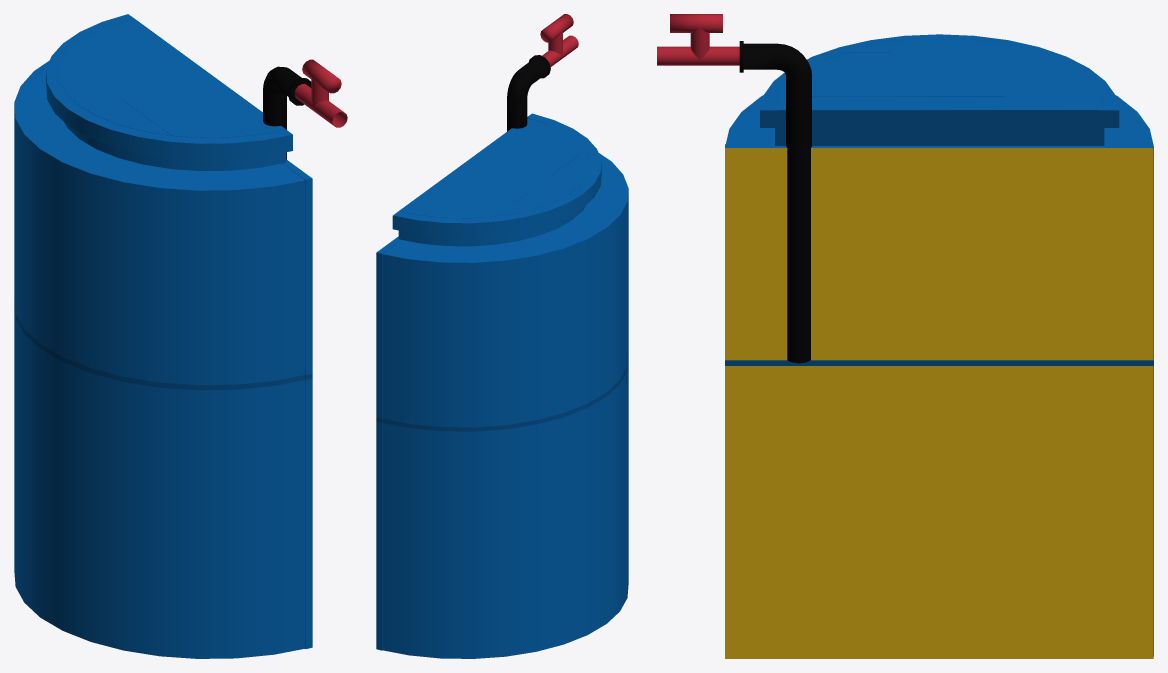
File: Pipa Gas.fbx
3 renders of one model, left to right at view 1: azimuth 30°, elevation 25°; view 2: azimuth 150°, elevation 25°; view 3: azimuth 270°, elevation 25°, orthographic. The views are drawn at different scales.
Visible parts, largest first — view 1: 1/2 Digester, 1/2 Plane, Katup Gas 1/2, Pipa Gas; view 2: 1/2 Digester, 1/2 Plane, Pipa Gas, Katup Gas 1/2; view 3: 1/2 Plane, 1/2 Digester, Pipa Gas, Katup Gas 1/2.
Boxes of the visible parts, <box> form: 1/2 Digester: <box>14,14,305,658</box>; 1/2 Plane: <box>127,103,312,648</box>; Katup Gas 1/2: <box>294,59,347,127</box>; Pipa Gas: <box>263,66,311,159</box>; 1/2 Digester: <box>379,113,628,658</box>; 1/2 Plane: <box>376,236,400,650</box>; Pipa Gas: <box>507,55,550,131</box>; Katup Gas 1/2: <box>540,14,578,66</box>; 1/2 Plane: <box>725,144,1153,658</box>; 1/2 Digester: <box>726,34,1153,656</box>; Pipa Gas: <box>739,41,811,363</box>; Katup Gas 1/2: <box>657,14,739,65</box>.
Size of the model in its own units: 134 by 413 by 290.
